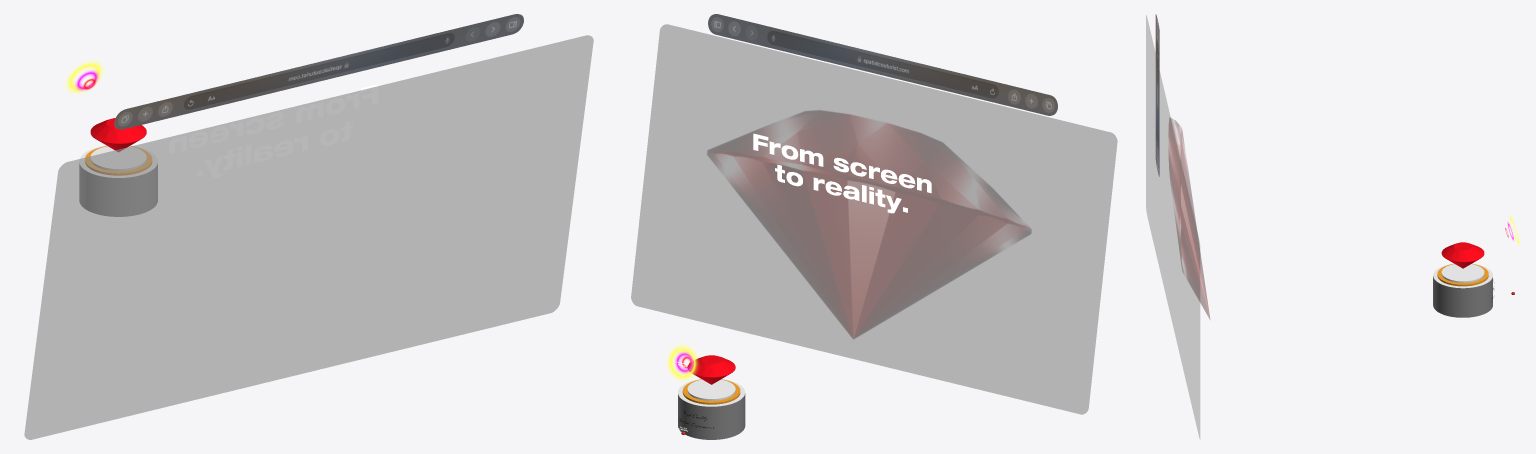
The model's file is zeit-mobile.glb.
3 views of the same model, side by side, from view 1: azimuth 30°, elevation 25°; view 2: azimuth 150°, elevation 25°; view 3: azimuth 270°, elevation 25° (orthographic). The views are drawn at different scales.
Visible parts, largest first — view 1: dd.001, dd.003, Text.001, dobj.005, dobj.001, dobj.002, BezierCircle; view 2: dd.001, dd.002, dd.003, Text.001, dobj.005, dobj.001, BezierCircle, dobj.002; view 3: dd.001, dd.002, dobj.005, dobj.001, dd.003, dobj.002.
Part boxes in pixels (<box>): dd.001: <box>24,35,593,439</box>; dd.003: <box>114,14,523,129</box>; Text.001: <box>169,84,378,177</box>; dobj.005: <box>79,164,157,216</box>; dobj.001: <box>90,118,146,151</box>; dobj.002: <box>90,146,146,170</box>; BezierCircle: <box>66,61,102,93</box>; dd.001: <box>631,24,1117,414</box>; dd.002: <box>707,110,1031,339</box>; dd.003: <box>708,14,1057,115</box>; Text.001: <box>753,133,931,213</box>; dobj.005: <box>678,393,745,439</box>; dobj.001: <box>687,355,735,384</box>; BezierCircle: <box>667,345,698,380</box>; dobj.002: <box>687,379,735,400</box>; dd.001: <box>1146,15,1200,439</box>; dd.002: <box>1168,117,1209,318</box>; dobj.005: <box>1433,276,1492,317</box>; dobj.001: <box>1441,242,1484,268</box>; dd.003: <box>1155,14,1159,176</box>; dobj.002: <box>1441,264,1484,282</box>.
Bounding box in the file's own units: 31.89 × 19.14 × 25.46.
17 materials, 6 textured.
